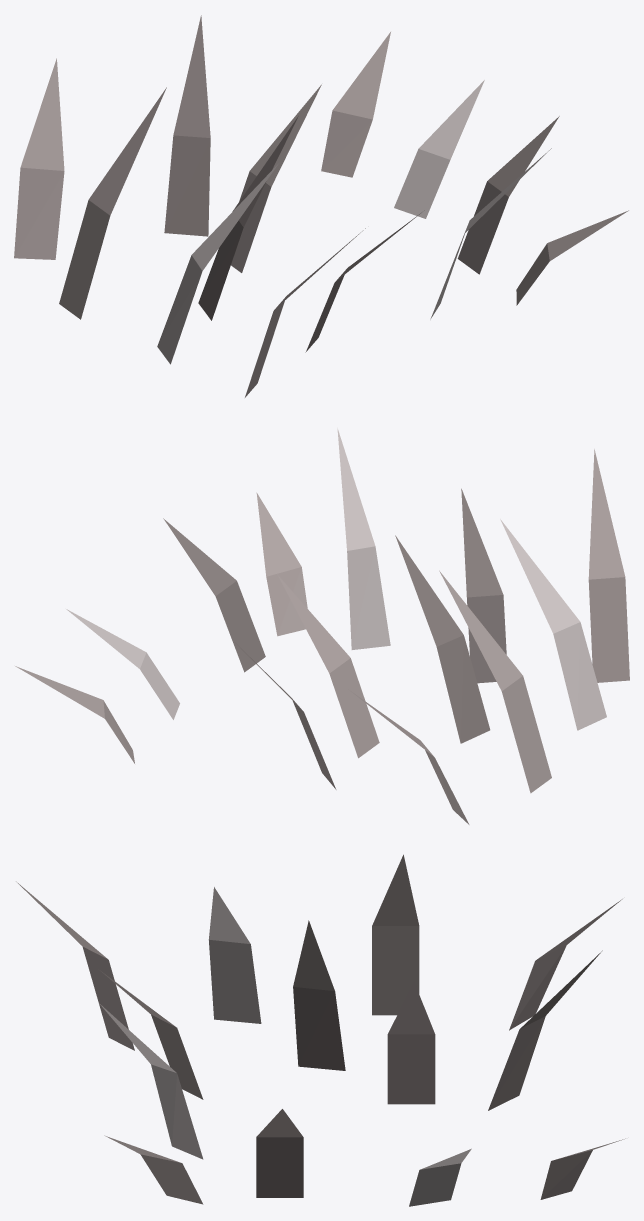
3 views of the same model, one above another, from view 1: azimuth 30°, elevation 25°; view 2: azimuth 150°, elevation 25°; view 3: azimuth 270°, elevation 25° (orthographic). The views are drawn at different scales.
Size of the model in its own units: 107 by 45 by 117.
1 material, 1 textured.
